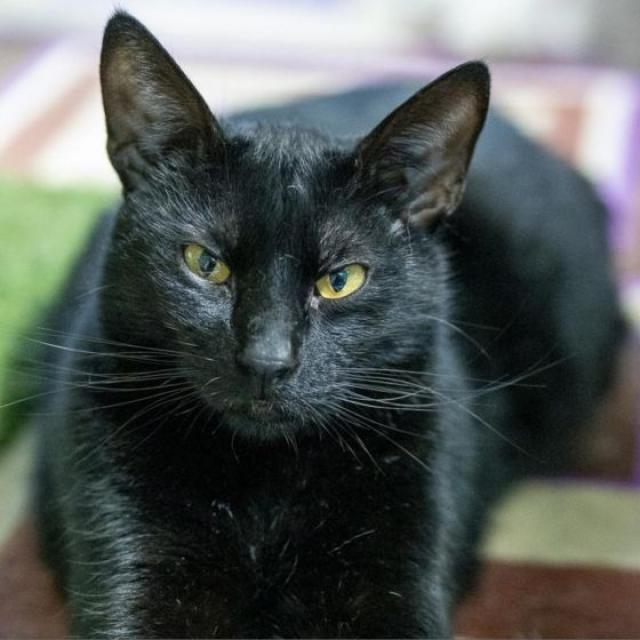domestic_short_hair_cat: (73, 8, 512, 486)
